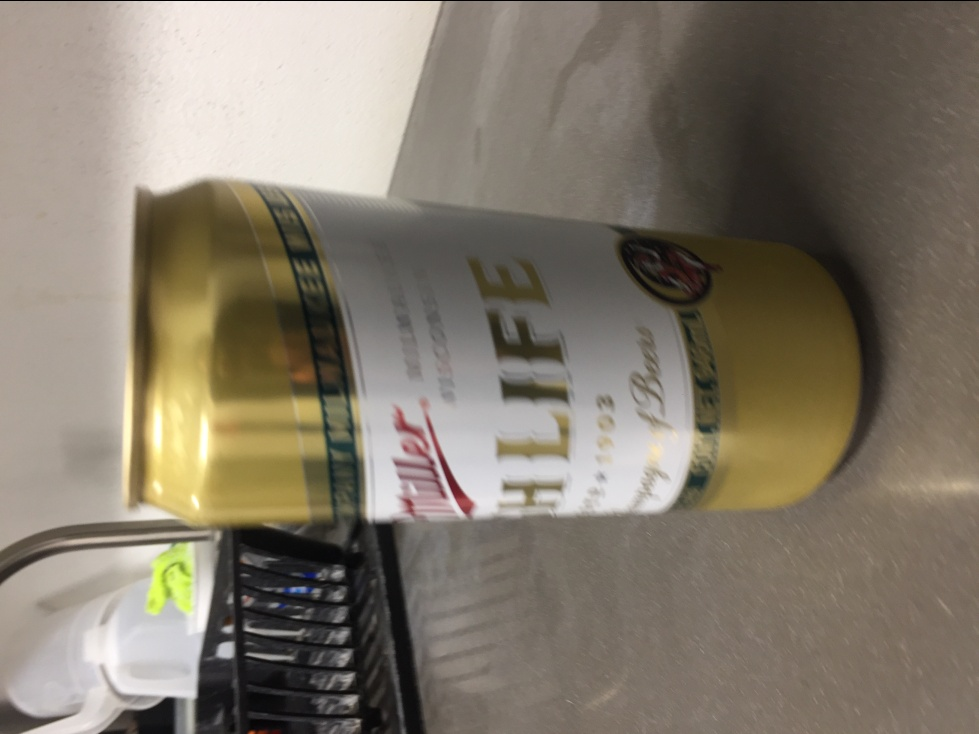miller: (117, 172, 872, 528)
